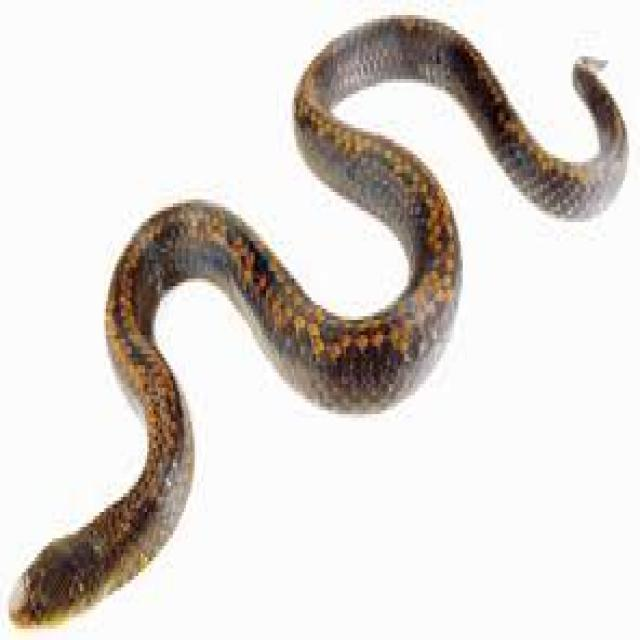Snake: (11, 7, 634, 633)
